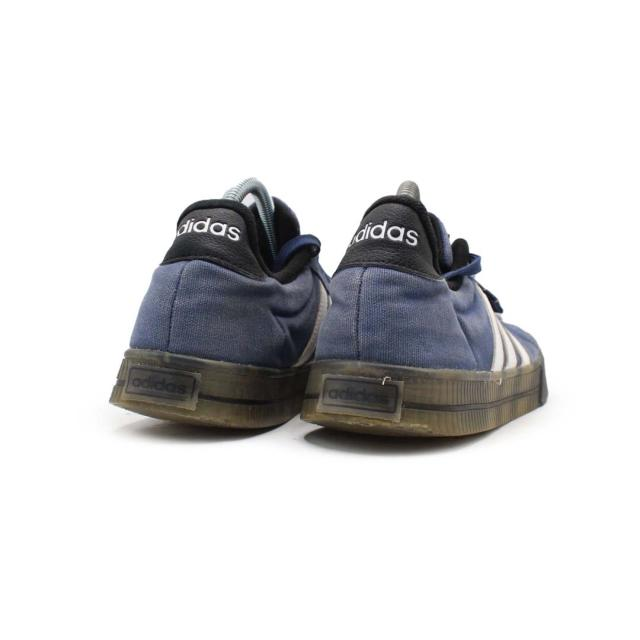heel: (312, 195, 476, 364), (127, 204, 294, 367)
midsole: (297, 361, 549, 436), (108, 351, 312, 429)
